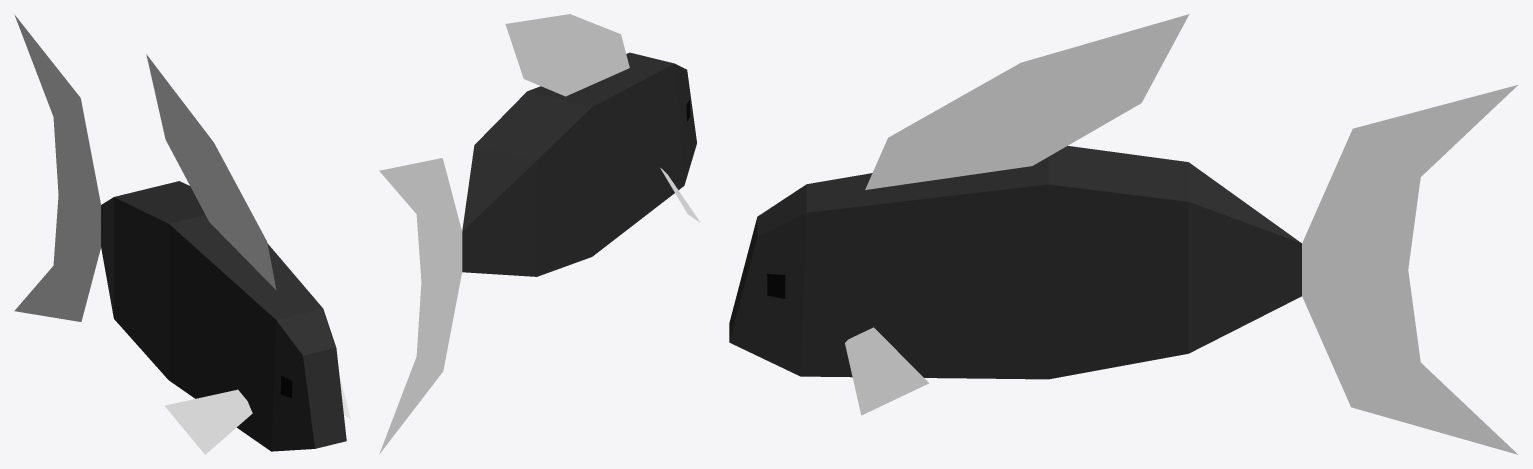
File: 05basicfish.fbx
3 renders of one model, left to right at view 1: azimuth 30°, elevation 25°; view 2: azimuth 150°, elevation 25°; view 3: azimuth 270°, elevation 25°, orthographic. The views are drawn at different scales.
Visible parts, largest first — view 1: Tropical Fish 05; view 2: Tropical Fish 05; view 3: Tropical Fish 05.
Part boxes in pixels (x1,y1,x2,y2): Tropical Fish 05: [14, 14, 350, 454]; Tropical Fish 05: [379, 14, 700, 453]; Tropical Fish 05: [729, 14, 1518, 454].
Size of the model in its own units: 88.27 by 173 by 281.
